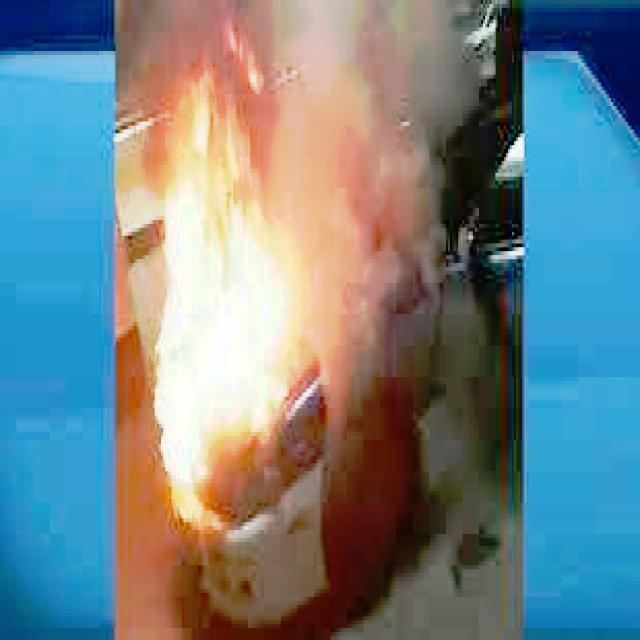api: (150, 131, 327, 535)
